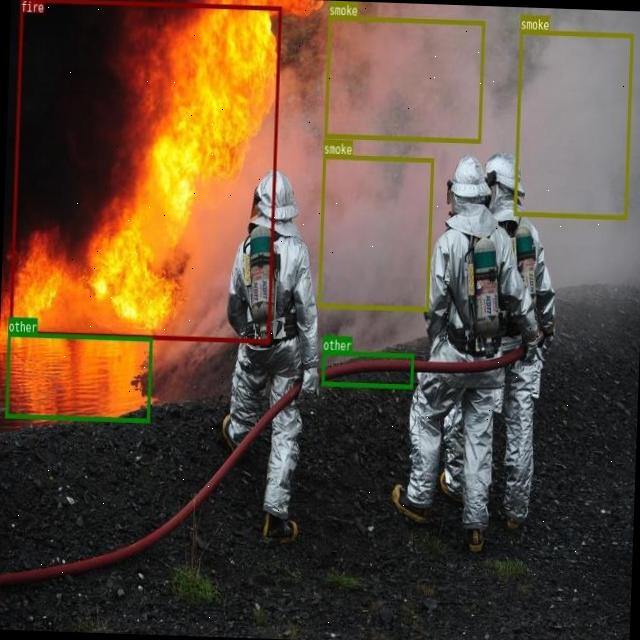fire: (8, 0, 281, 342)
smoke: (513, 30, 632, 218), (324, 15, 484, 142), (318, 154, 432, 310)
